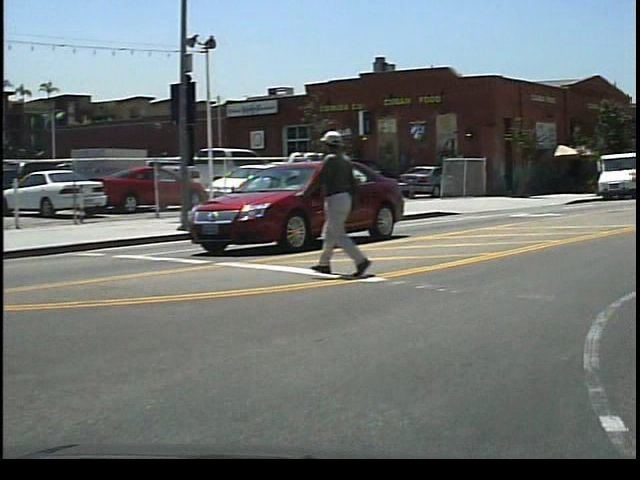person: (314, 128, 388, 291)
